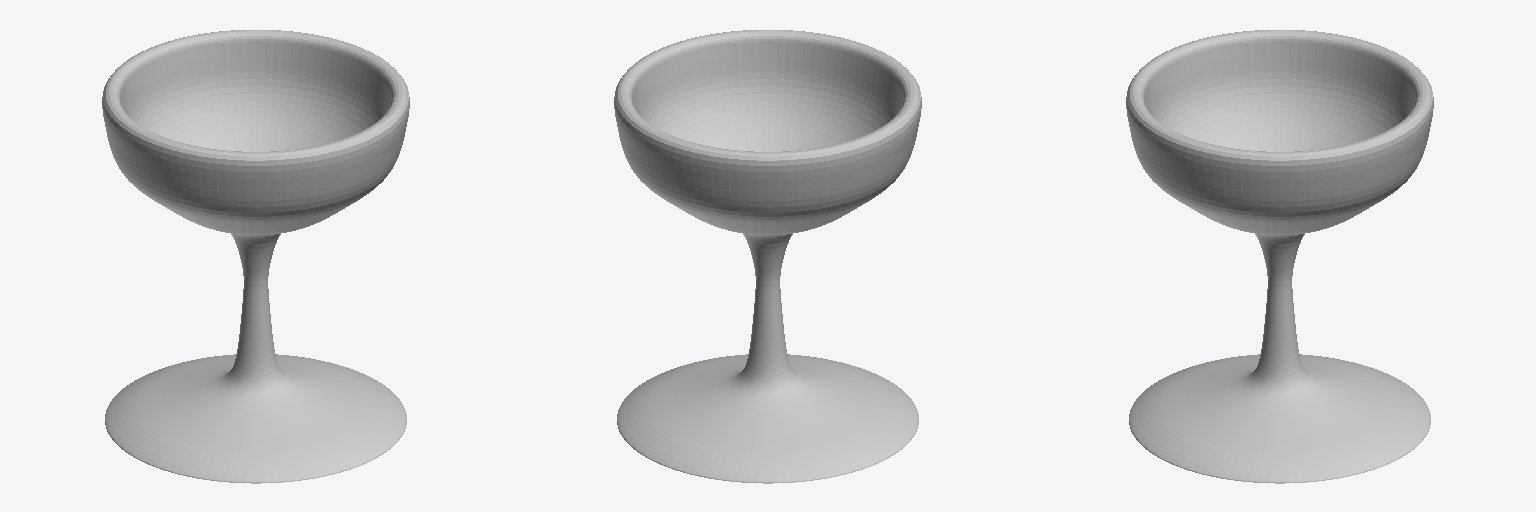
File: goblet.obj
The picture shows the model from 3 angles: view 1: azimuth 30°, elevation 25°; view 2: azimuth 150°, elevation 25°; view 3: azimuth 270°, elevation 25°; orthographic projection.
Parts seen in each view (by area): view 1: Cube; view 2: Cube; view 3: Cube.
Part boxes in pixels (left/top/right/bottom): Cube: left=102, top=30, right=409, bottom=483; Cube: left=614, top=30, right=921, bottom=483; Cube: left=1126, top=30, right=1433, bottom=483.
Bounding box in the file's own units: 5.02 × 5.91 × 5.02.